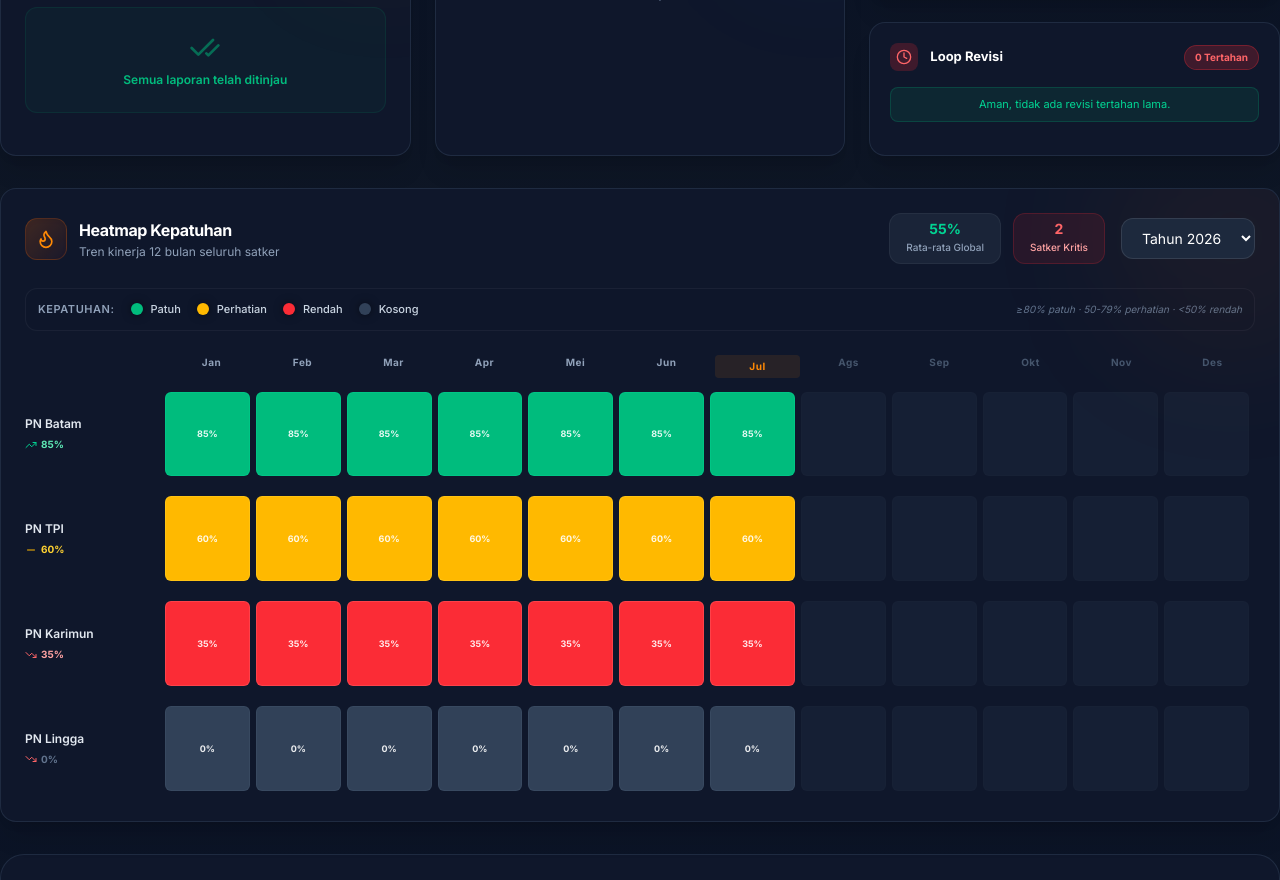
it: Dashboard HeatmapKepatuhan Component › menampilkan tooltip saat hover sel
(page scrolled)
Expected: the text "PN Batam" is shown, [25,416,82,431]
Hover over the 1st element showing "85%": (207, 434) [165,392,250,476]
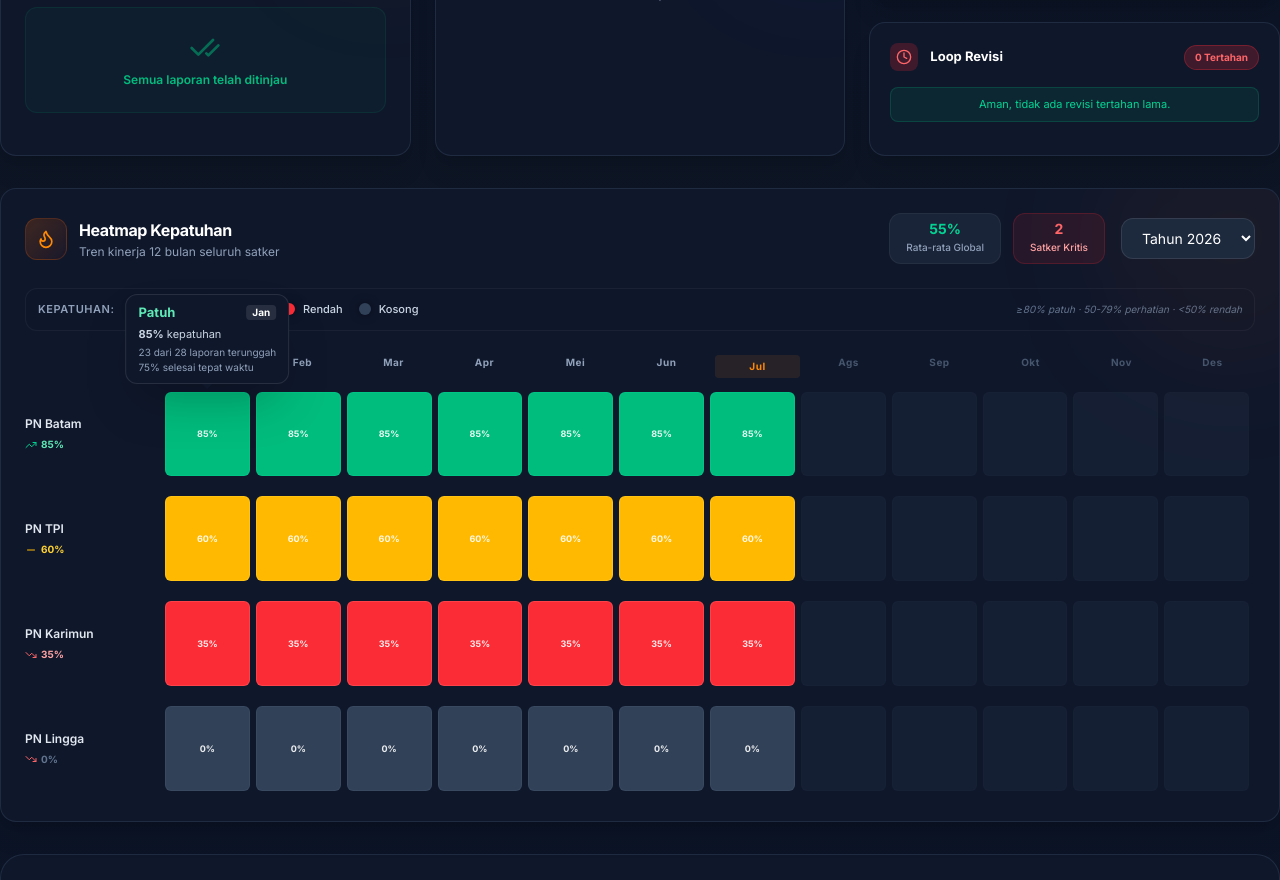
Now the text "75% selesai tepat waktu" is shown, box [139,360,254,372]
